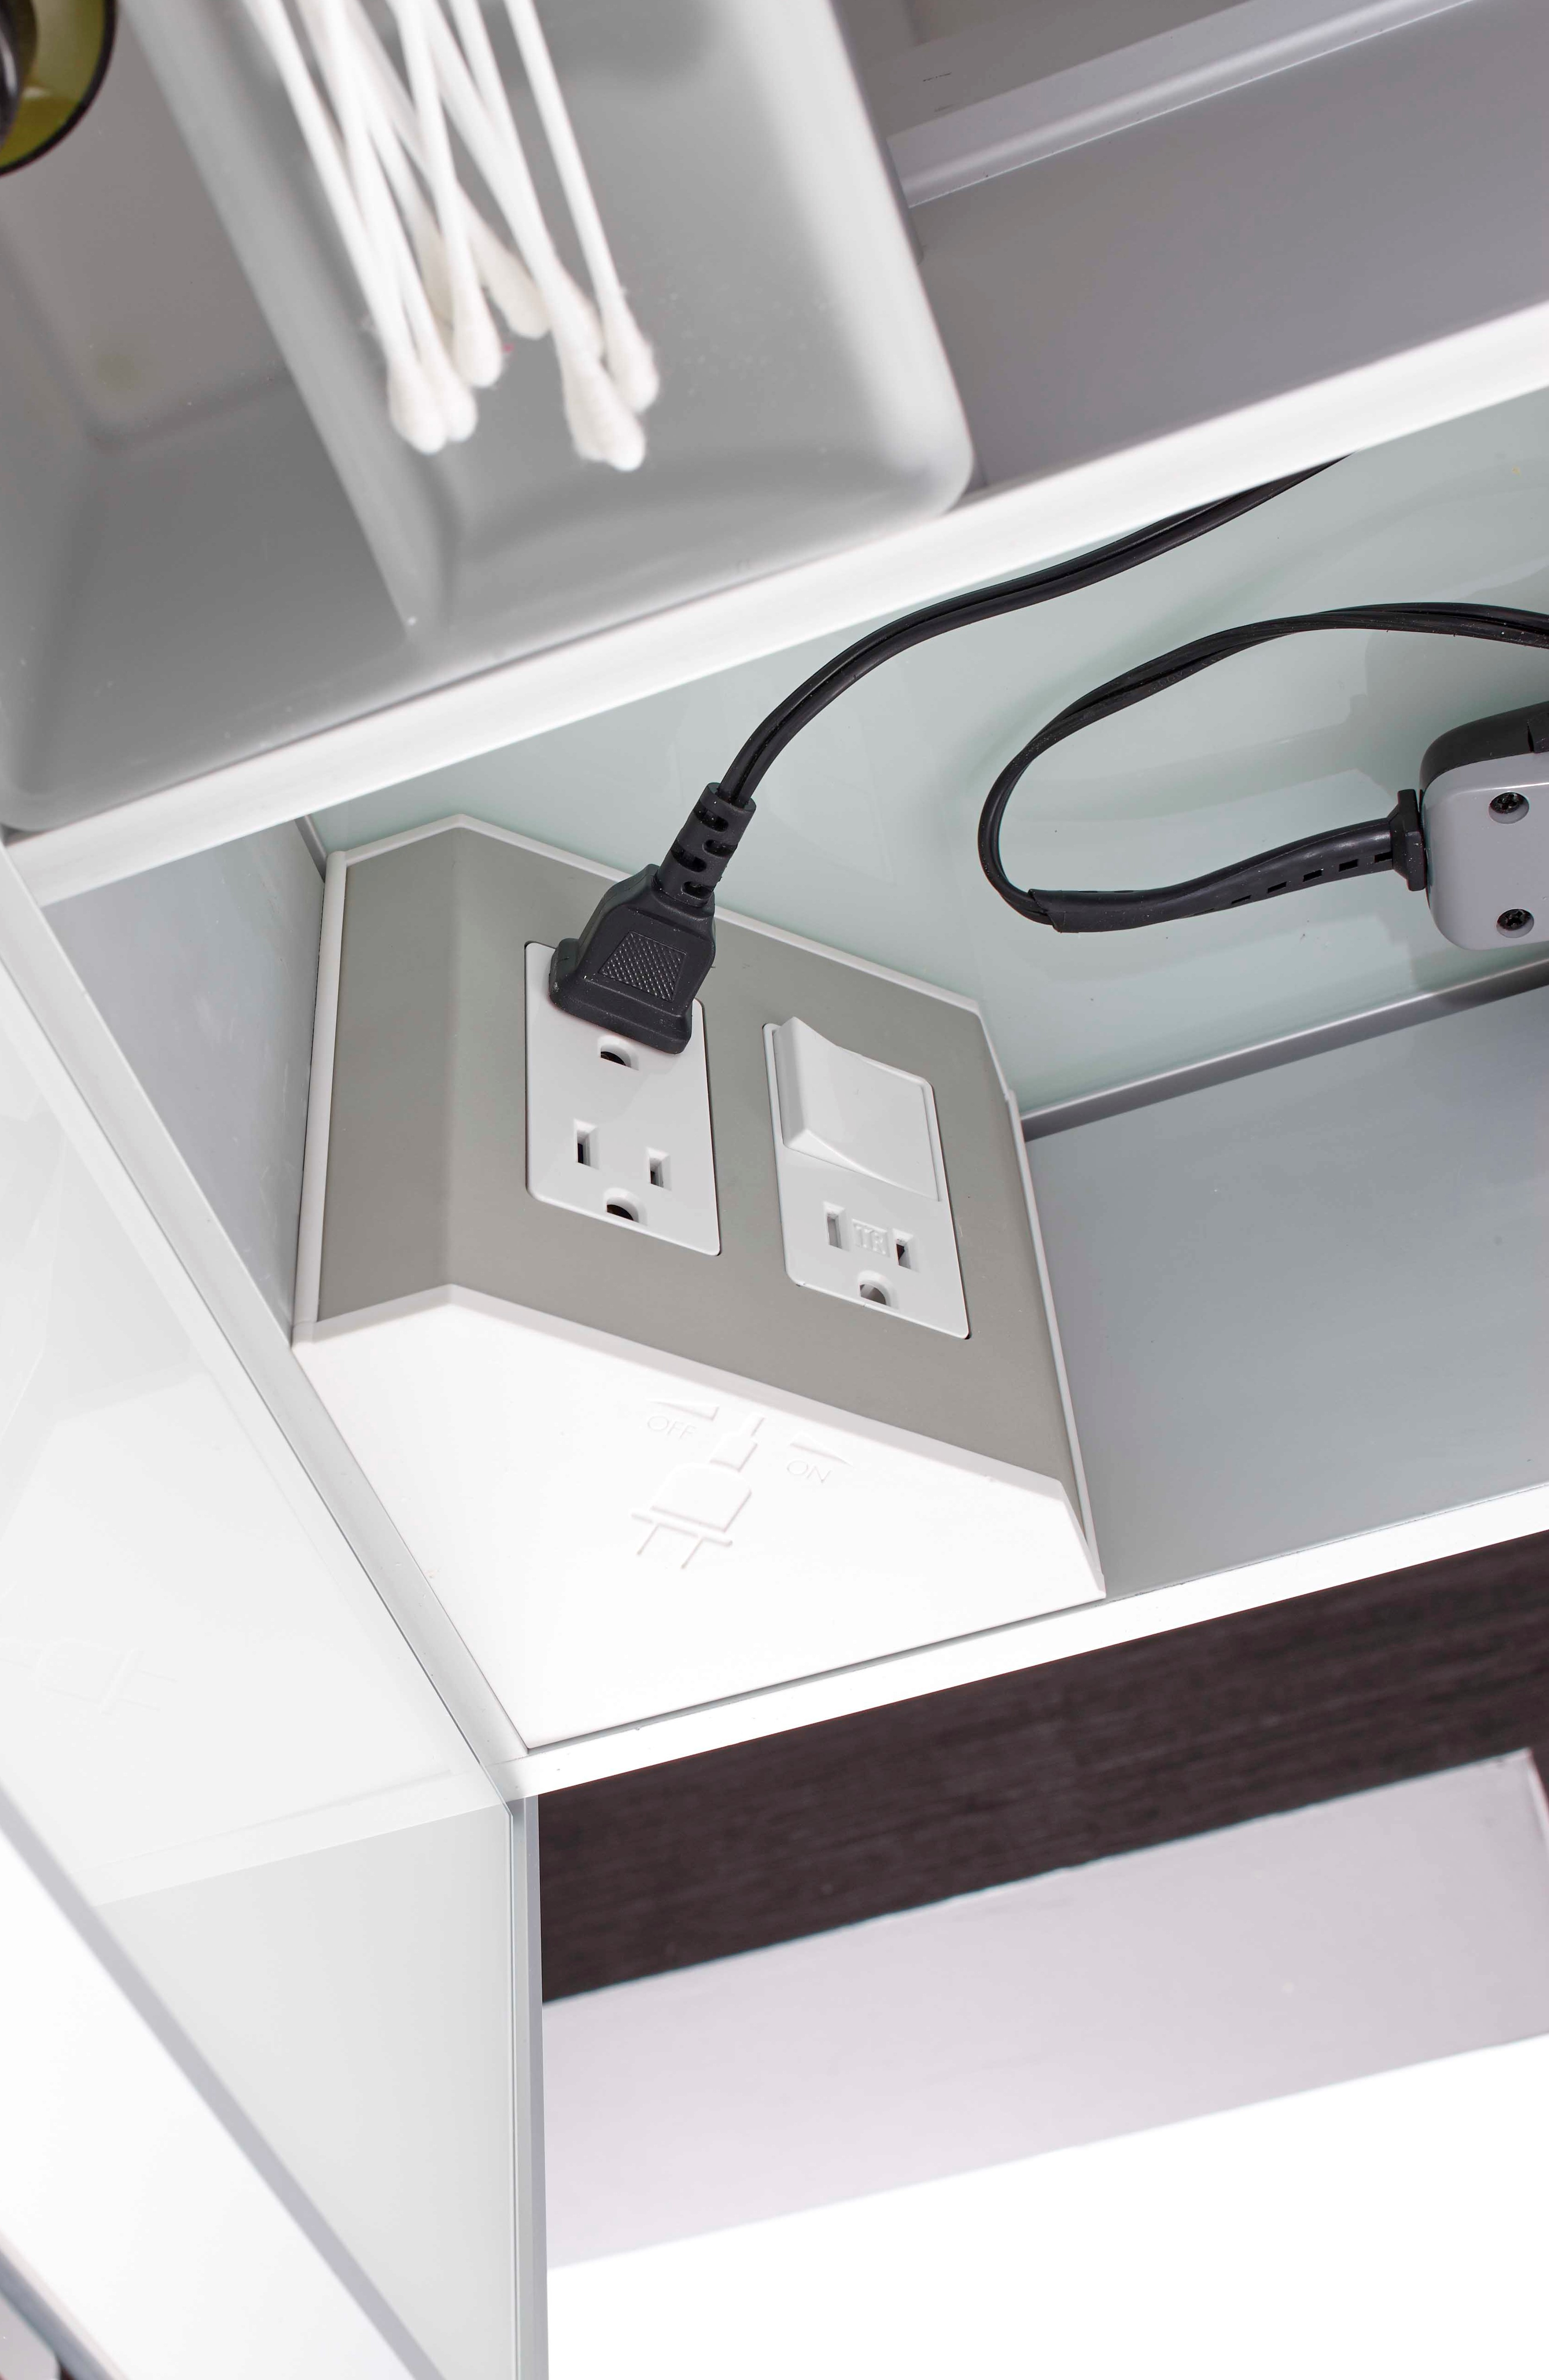outlet: (560, 1112, 680, 1232), (815, 1200, 925, 1310)
